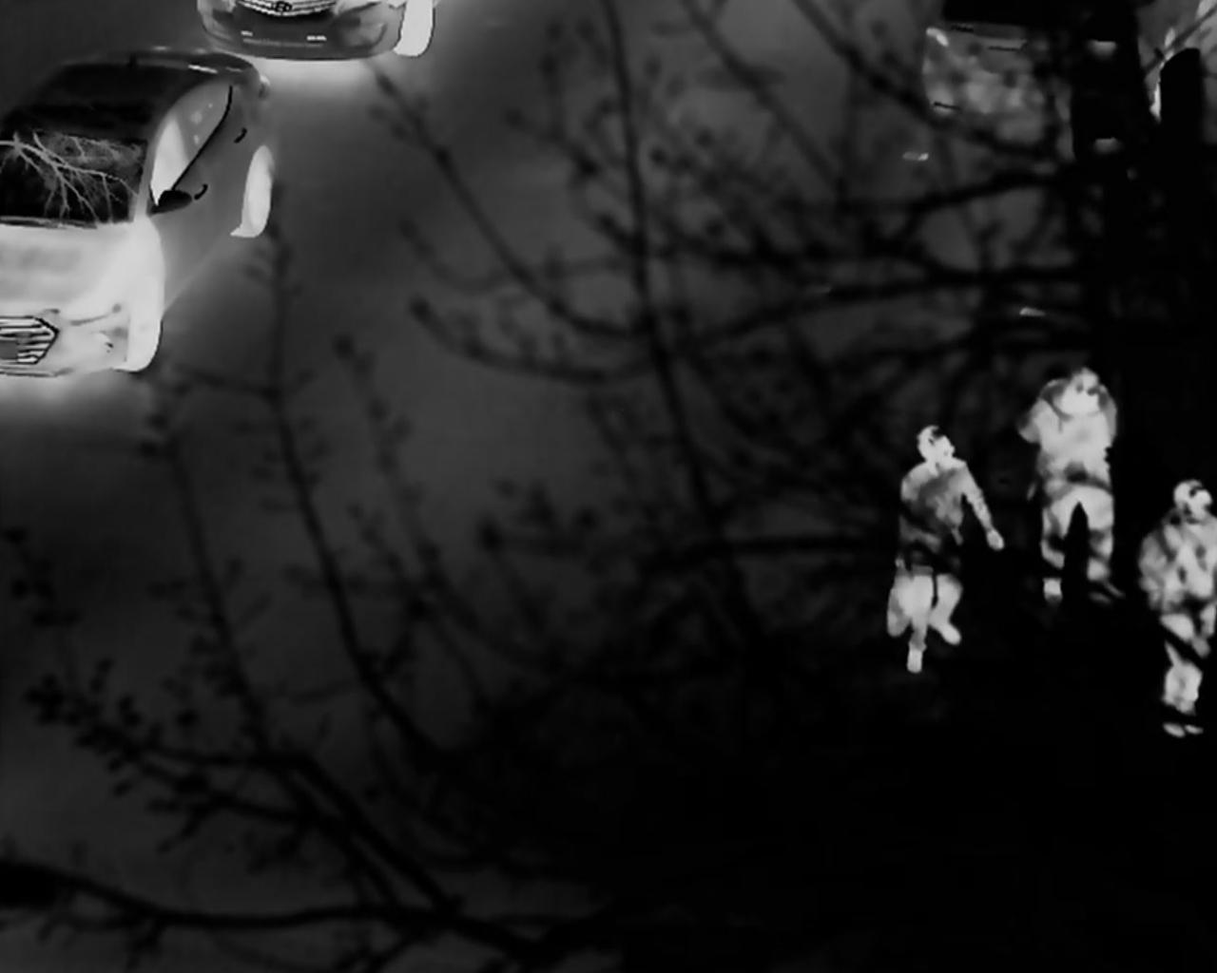person: (884, 431, 998, 677), (1036, 352, 1123, 617), (1142, 474, 1212, 740)
